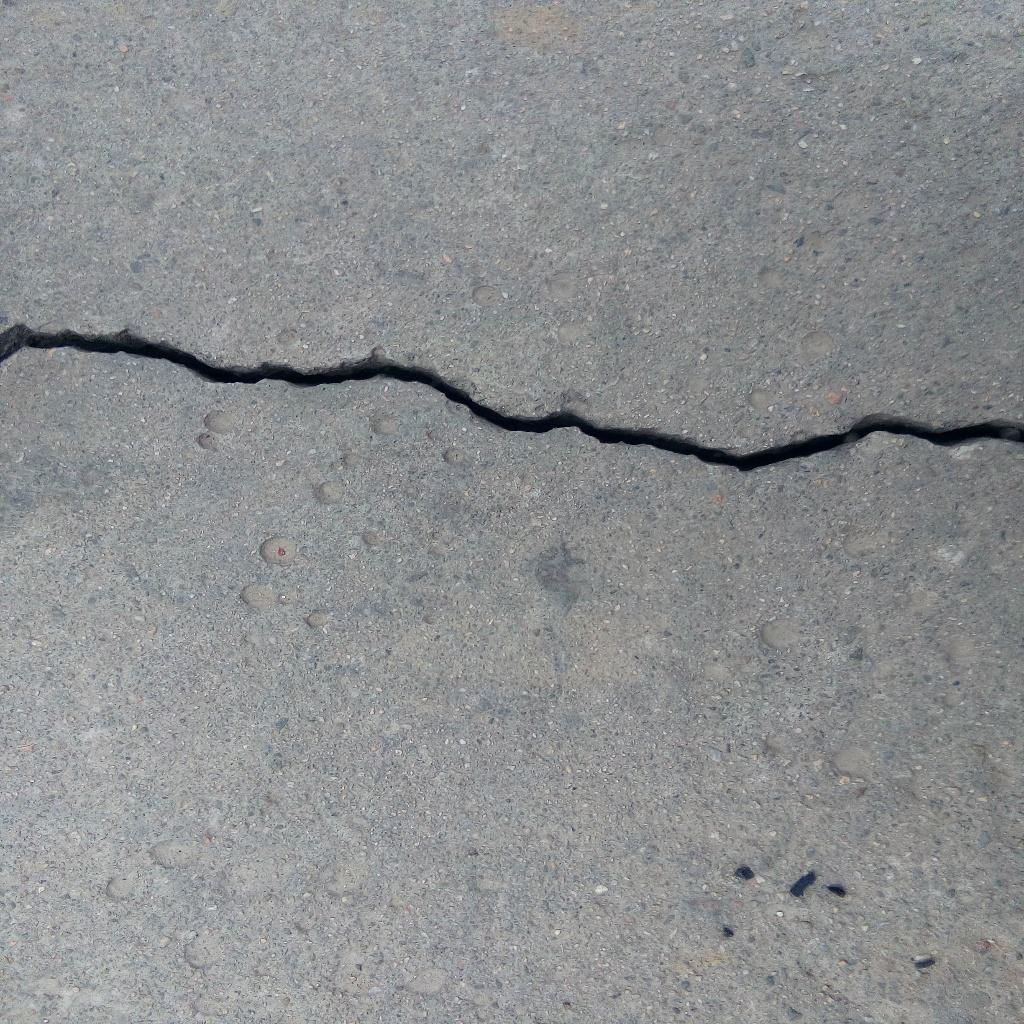Crack: (1, 320, 1024, 474)
